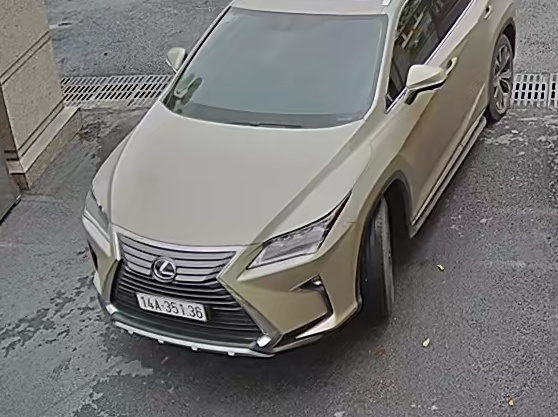vehicle plate: (131, 292, 206, 321)
